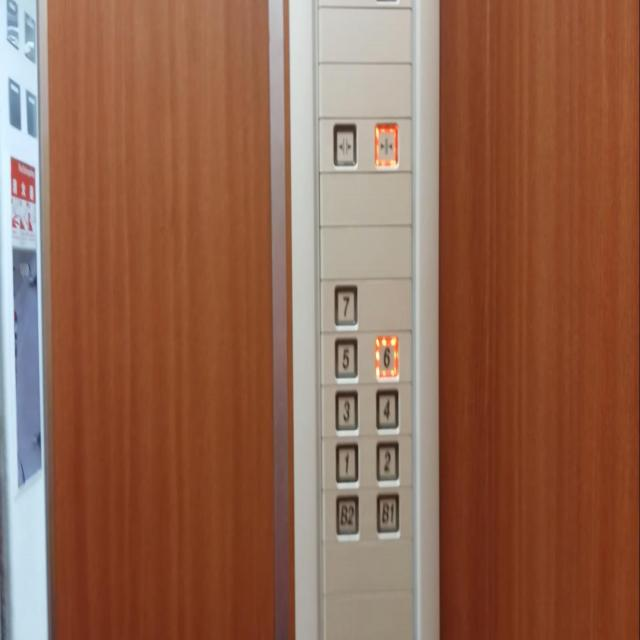1: (333, 439, 360, 488)
2: (374, 438, 400, 486)
3: (333, 387, 360, 433)
4: (374, 384, 401, 432)
5: (332, 335, 360, 382)
6: (372, 332, 400, 382)
7: (332, 282, 360, 331)
B1: (375, 490, 401, 537)
B2: (334, 492, 360, 539)
close: (373, 119, 399, 171)
open: (332, 120, 358, 169)
